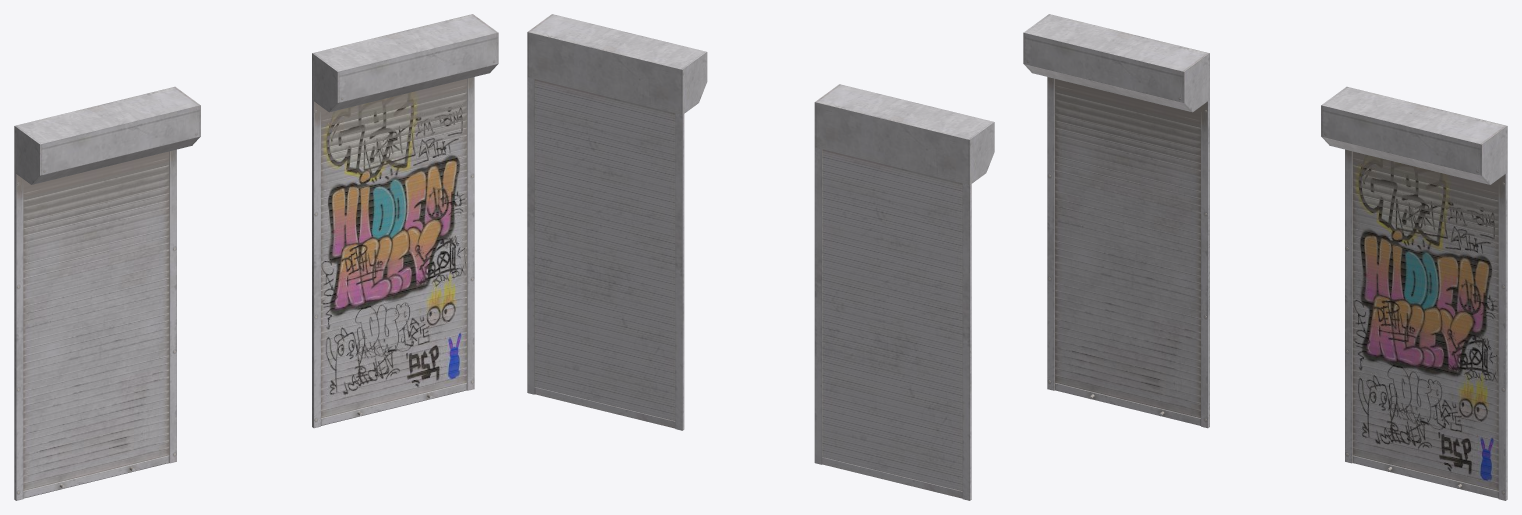
The model's file is rollershutter_door.glb.
3 views of the same model, side by side, from view 1: azimuth 30°, elevation 25°; view 2: azimuth 150°, elevation 25°; view 3: azimuth 330°, elevation 25° (orthographic). The views are drawn at different scales.
Visible parts, largest first — view 1: rollershutter_door, rollershutter_door_graffiti; view 2: rollershutter_door, rollershutter_door_graffiti; view 3: rollershutter_door_graffiti, rollershutter_door.
Part boxes in pixels (x1=…): rollershutter_door: x1=14, y1=86, x2=200, y2=500; rollershutter_door_graffiti: x1=312, y1=14, x2=498, y2=428; rollershutter_door: x1=814, y1=84, x2=994, y2=500; rollershutter_door_graffiti: x1=527, y1=14, x2=707, y2=430; rollershutter_door_graffiti: x1=1321, y1=86, x2=1507, y2=500; rollershutter_door: x1=1023, y1=14, x2=1209, y2=428.
Bounding box in the file's own units: 3.08 × 2.4 × 0.3001.
2 materials, 2 textured.
